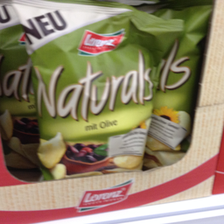chips: (20, 1, 173, 179)
